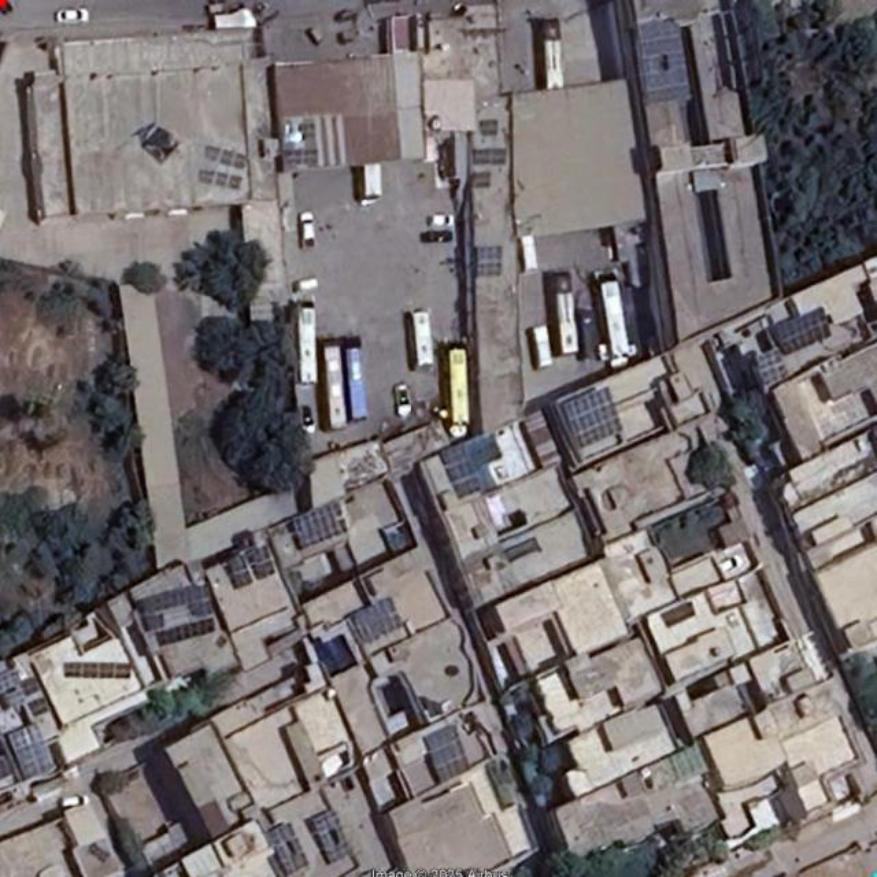Solarpanel: (639, 21, 690, 102), (565, 387, 623, 447), (5, 725, 55, 780), (773, 307, 830, 353), (424, 726, 467, 782), (440, 442, 483, 497), (354, 595, 404, 641), (294, 505, 347, 547), (269, 822, 307, 873), (314, 812, 351, 863), (136, 586, 199, 614), (159, 620, 213, 642), (65, 663, 130, 679), (478, 242, 502, 278), (474, 148, 508, 163), (29, 700, 50, 715), (468, 172, 490, 185), (23, 680, 40, 694)
